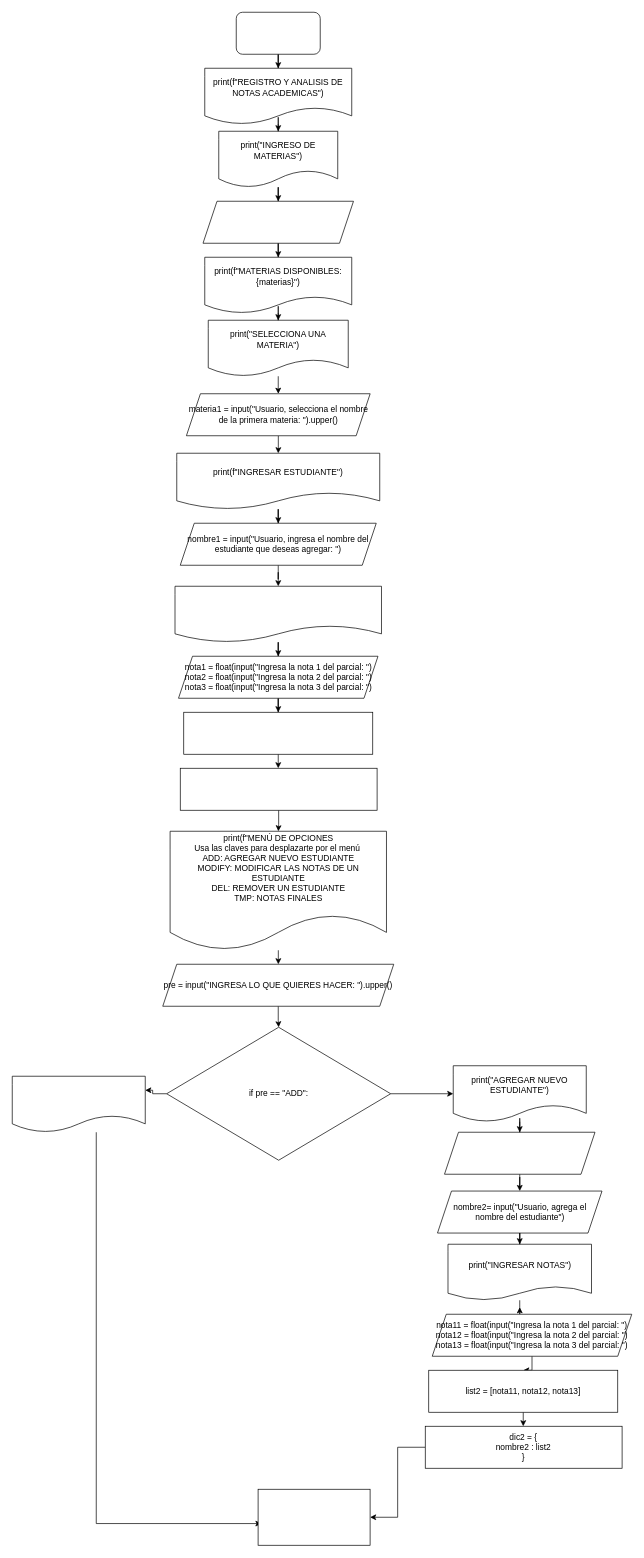
Image size: 644x1558. Some labels were removed from this diagram. The shapes that lost their labels are listed below. From the top down, each one's centre as x and y in pixels, then its label:
(278,33): INICIO
(278,222): materias = ("MATEMATICAS", "LENGUAJE", "BIOLOGIA")
(278,614): print(f"INGRESAR NOTAS")
(278,733): list1 = [nota1, nota2, nota3]
(278,789): dic1 = { nombre1 : list1 }
(78,1104): print("Hubo un error")
(519,1153): materia2 = input("Usuario, agrega el nombre de la segunda materia")
(313,1517): nombre2 = "" aprobo1 = "" aprobo2 = "" desaprobo1 = "" desaprobo2 = ""
